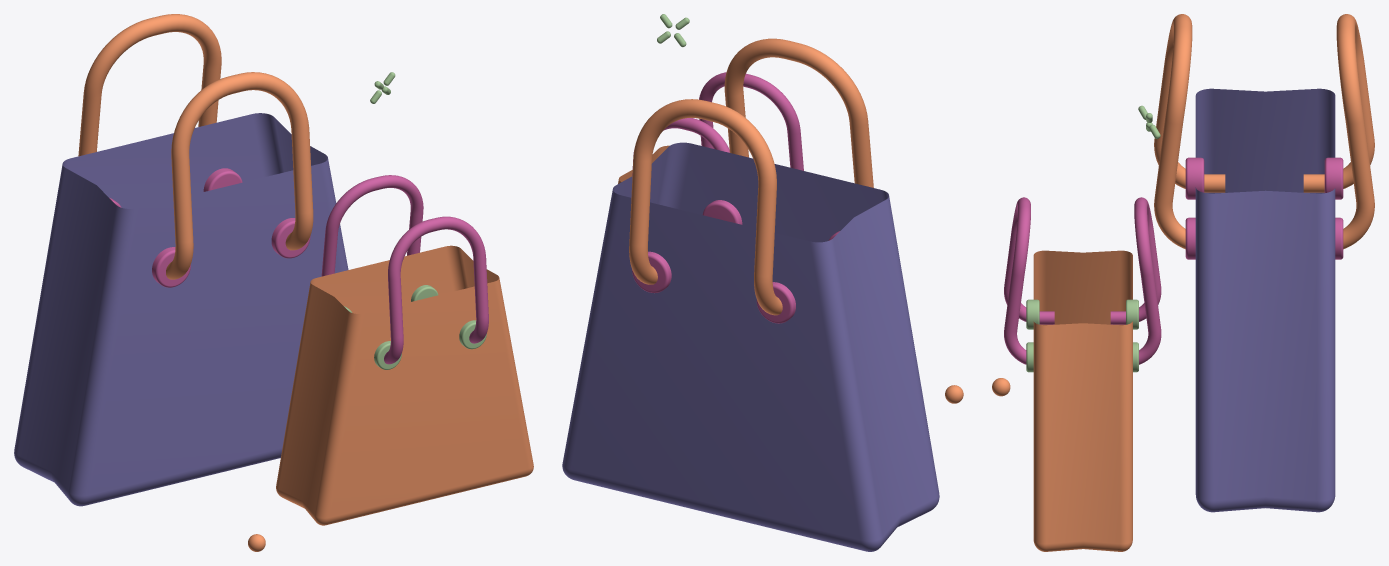
File: shopping-bag-3d-animated-icon-765138843900.glb
3 renders of one model, left to right at view 1: azimuth 30°, elevation 25°; view 2: azimuth 150°, elevation 25°; view 3: azimuth 270°, elevation 25°, orthographic. The views are drawn at different scales.
Visible parts, largest first — view 1: Cube.002, Cube.018, Cube.015, Cube.003, Cylinder, Cylinder.001; view 2: Cube.002, Cube.015, Cube.003, Cylinder; view 3: Cube.002, Cube.018, Cube.015, Cube.003, Cylinder, Cylinder.001.
Part boxes in pixels (left/top/right/bottom): Cube.002: left=14, top=113, right=348, bottom=506; Cube.018: left=276, top=245, right=533, bottom=525; Cube.015: left=78, top=14, right=313, bottom=279; Cube.003: left=321, top=175, right=488, bottom=364; Cylinder: left=109, top=168, right=310, bottom=287; Cylinder.001: left=344, top=285, right=486, bottom=369; Cube.002: left=562, top=142, right=939, bottom=551; Cube.015: left=629, top=38, right=873, bottom=315; Cube.003: left=632, top=72, right=803, bottom=175; Cylinder: left=632, top=200, right=839, bottom=323; Cube.002: left=1195, top=88, right=1335, bottom=512; Cube.018: left=1033, top=250, right=1132, bottom=551; Cube.015: left=1154, top=14, right=1374, bottom=249; Cube.003: left=1004, top=197, right=1161, bottom=364; Cylinder: left=1185, top=157, right=1343, bottom=259; Cylinder.001: left=1026, top=299, right=1138, bottom=372.
Bounding box in the file's own units: 2.43 × 2.46 × 2.05.
